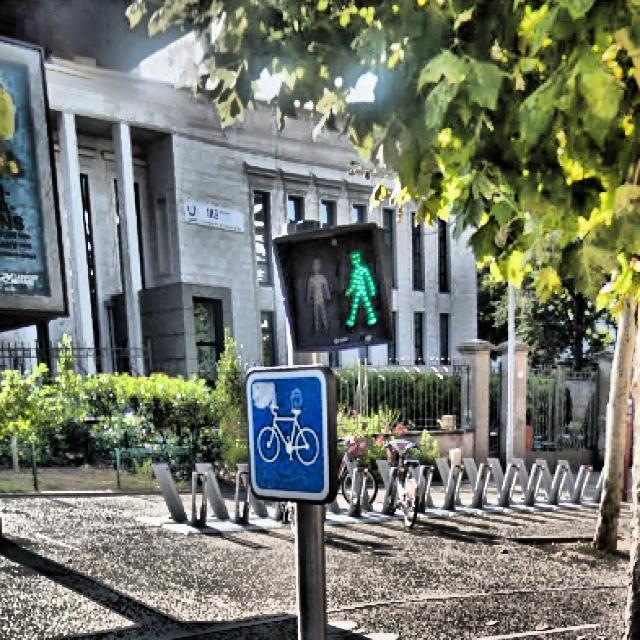green_light: (338, 244, 380, 329)
